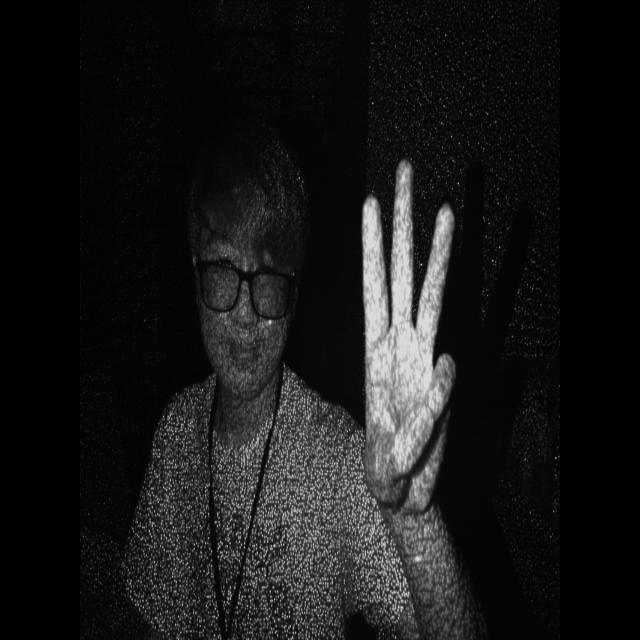W: (342, 144, 466, 518)
